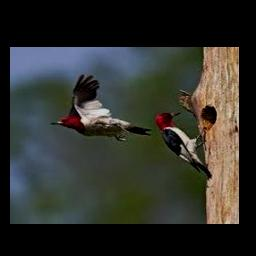Woodpecker: (50, 74, 152, 141), (154, 111, 212, 179)
